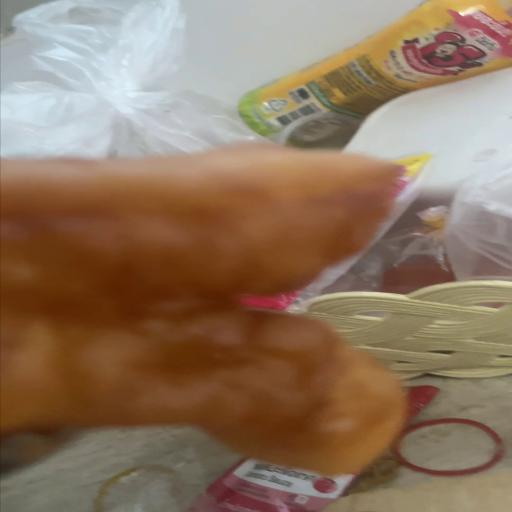street_burnt_good: (0, 144, 406, 488)
